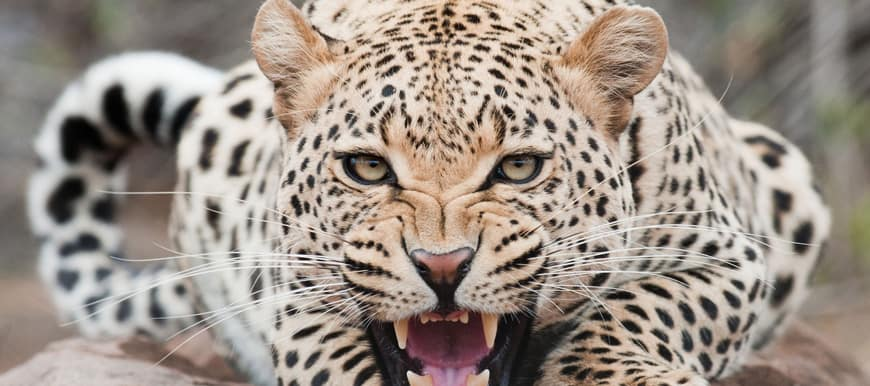leopard: (36, 1, 835, 386)
